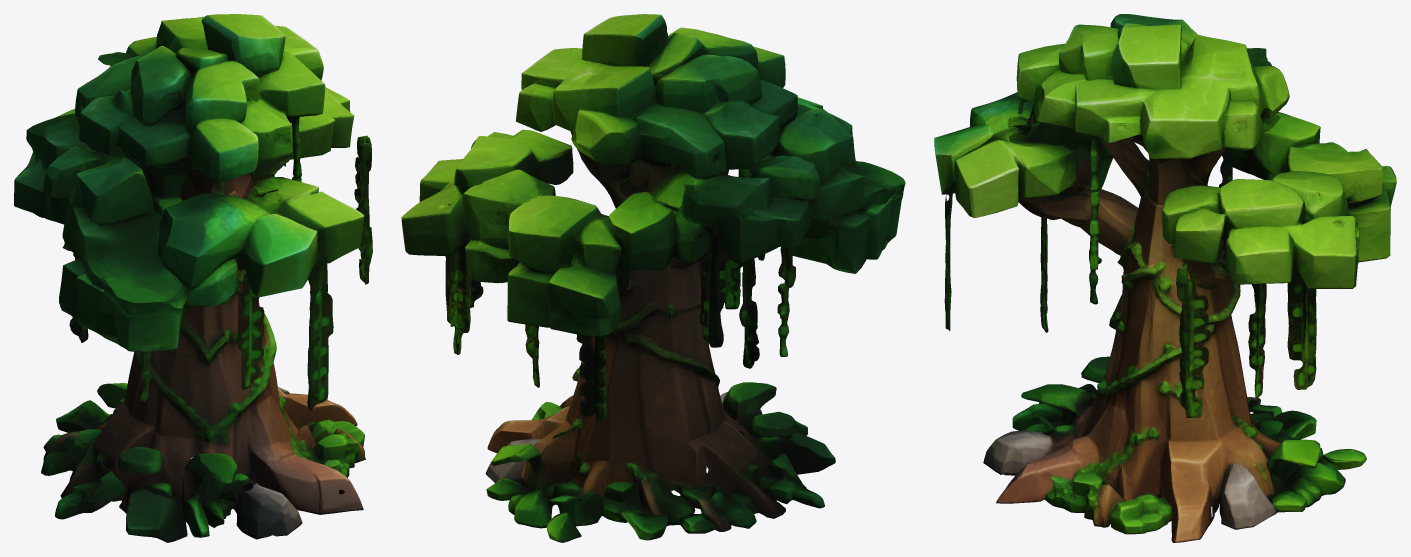
File: Tree_2.glb
The picture shows the model from 3 angles, left to right: view 1: azimuth 30°, elevation 25°; view 2: azimuth 150°, elevation 25°; view 3: azimuth 270°, elevation 25°; orthographic projection.
Parts seen in each view (by area): view 1: world; view 2: world; view 3: world.
Part boxes in pixels (x1=…): world: x1=14, y1=14, x2=372, y2=542; world: x1=401, y1=14, x2=905, y2=542; world: x1=934, y1=14, x2=1396, y2=542.
Bounding box in the file's own units: 0.8075 × 0.969 × 0.8976.
Materials: 1 (1 with a texture image).
